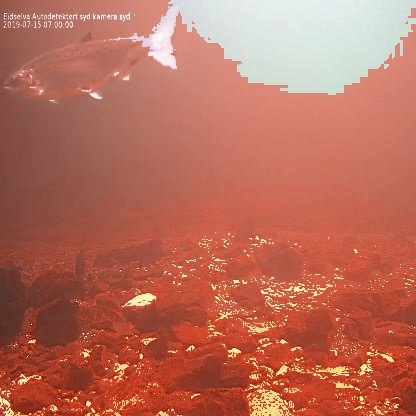salmon: (3, 3, 181, 109)
